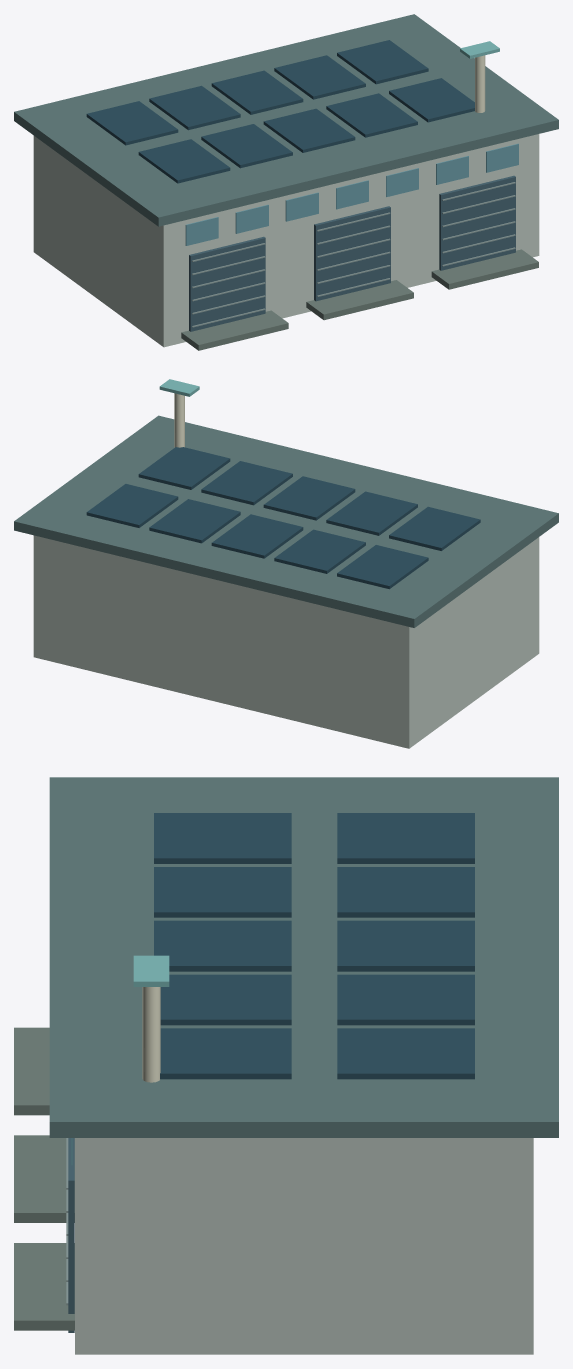
Rendered from smart-warehouse.glb.
3 views of the same model, one above another, from view 1: azimuth 30°, elevation 25°; view 2: azimuth 150°, elevation 25°; view 3: azimuth 270°, elevation 25° (orthographic). The views are drawn at different scales.
Parts seen in each view (by area): view 1: smart-warehouse (×26), roof; view 2: smart-warehouse (×12), roof; view 3: smart-warehouse (×17), roof.
Part boxes in pixels (x1=…): smart-warehouse (×26): x1=33, y1=40, x2=539, y2=350; roof: x1=14, y1=14, x2=558, y2=226; smart-warehouse (×12): x1=33, y1=393, x2=539, y2=748; roof: x1=14, y1=415, x2=558, y2=627; smart-warehouse (×17): x1=14, y1=813, x2=533, y2=1354; roof: x1=49, y1=777, x2=558, y2=1137.
Bounding box in the file's own units: 16 × 7.66 × 10.7.
